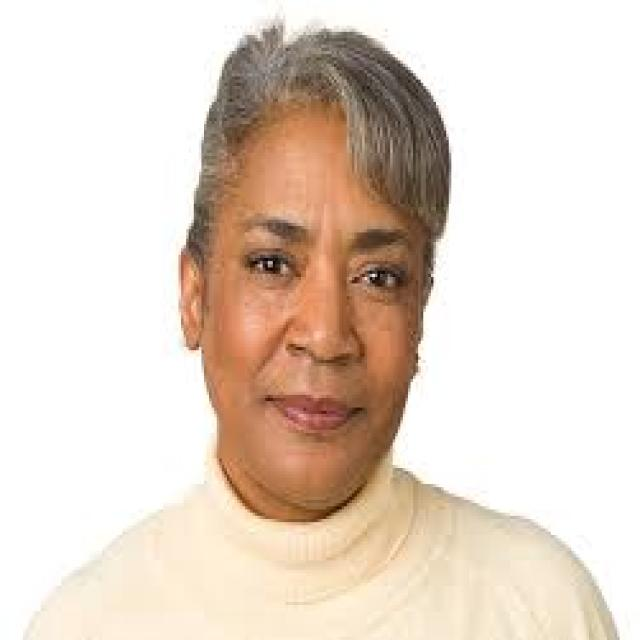natural: (188, 40, 438, 514)
